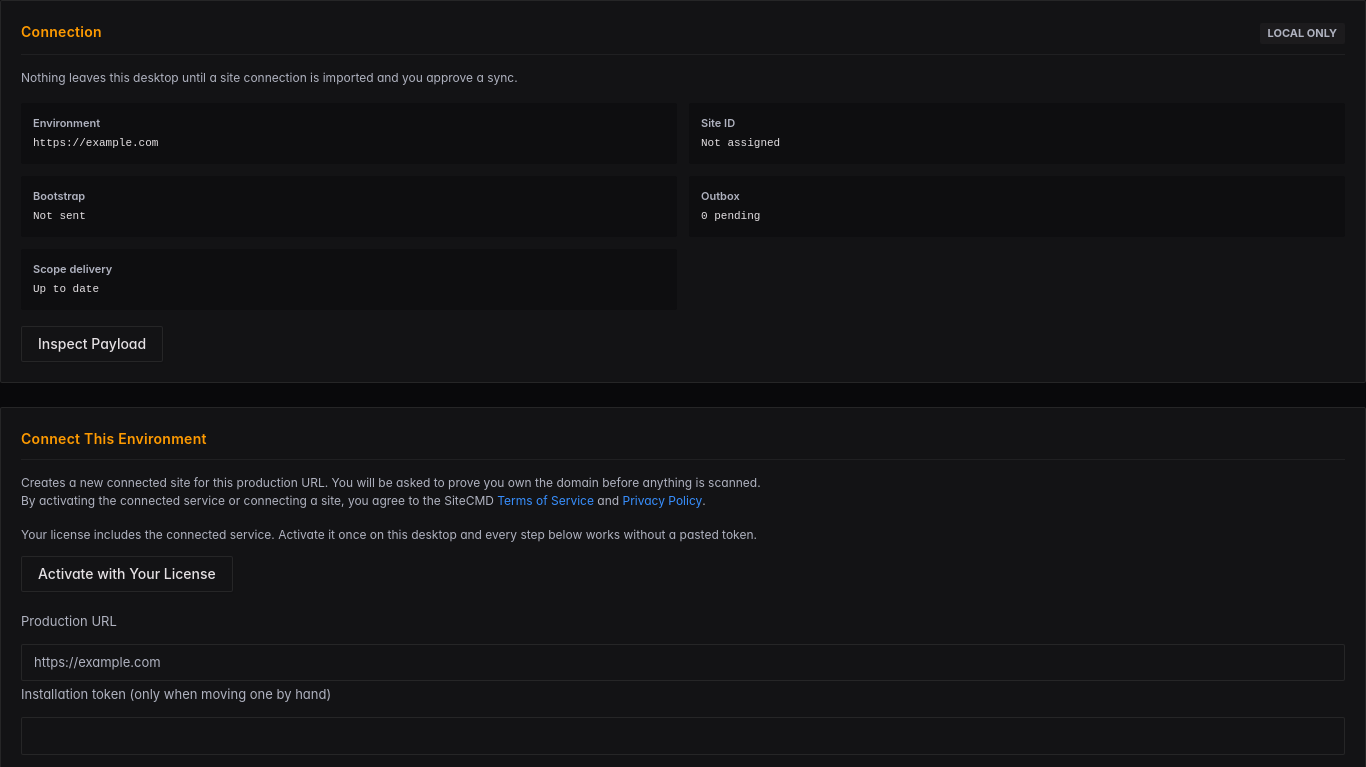
Test: ConnectedServiceSection › shows the exact unsent payload before a site is connected
The image size is (1366, 767).
Step 1. Click the button "Inspect Payload" → (92, 344), box [21, 326, 163, 362]
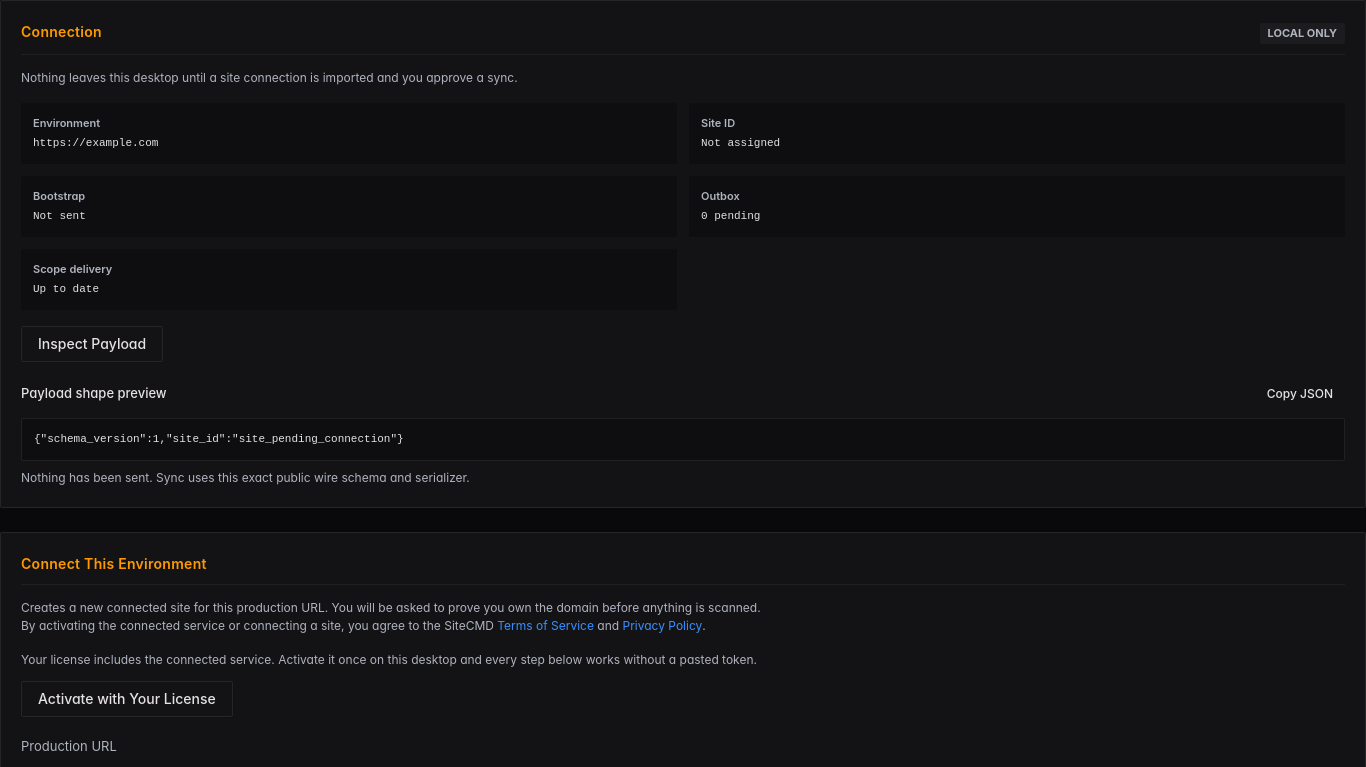
Expected: the text "{\"schema_version\":1,\"site_id\":\"site_pending_connection\"}" is shown, [21, 418, 1345, 461]
Expected: the text "Nothing has been sent" is shown, [21, 470, 470, 485]
